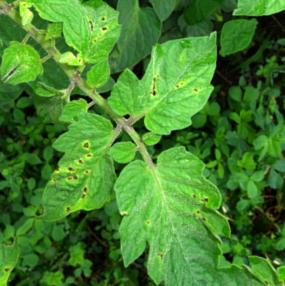Tomato leaf bacterial spot: (71, 120, 265, 286), (94, 0, 258, 163), (0, 98, 159, 257), (50, 0, 137, 76)
